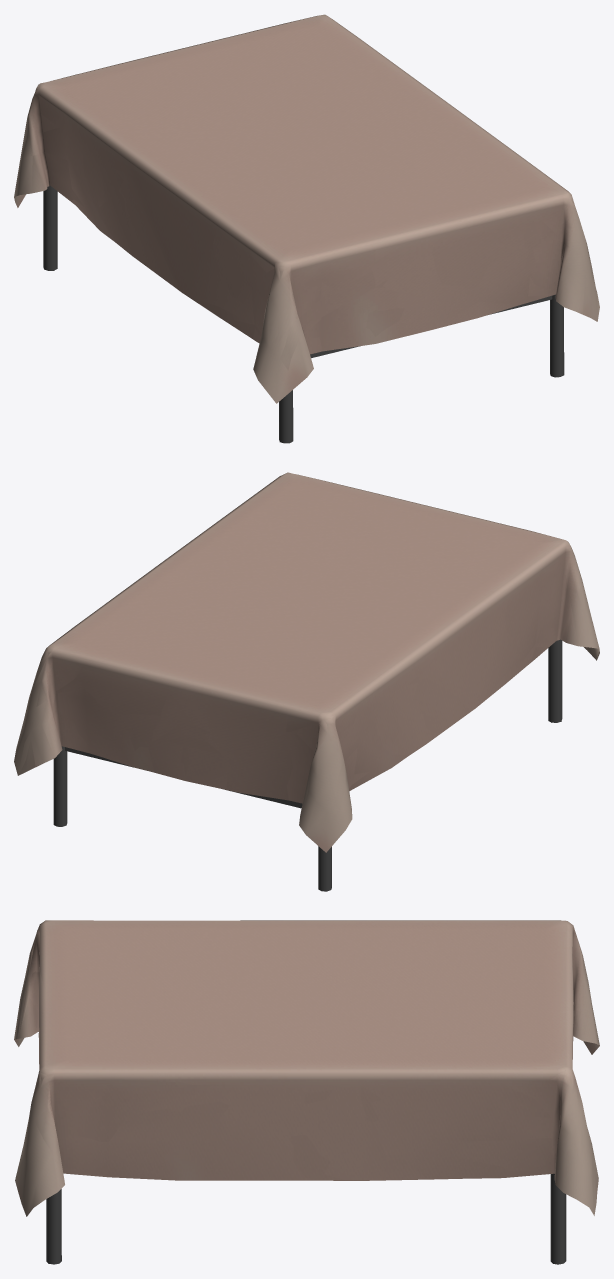
Rendered from pi_tabel01_03_06.gltf.
3 views of the same model, one above another, from view 1: azimuth 30°, elevation 25°; view 2: azimuth 150°, elevation 25°; view 3: azimuth 270°, elevation 25° (orthographic). The views are drawn at different scales.
Visible parts, largest first — view 1: um_pi_tabel01_03_06_model_lod2Shape:pi_tabel01_cloth01_01_01, um_pi_tabel01_03_06_model_lod0Shape:pi_tabel01_cloth01_01_01, um_pi_tabel01_03_06_model_lod1Shape:pi_tabel01_cloth01_01_01, um_pi_tabel01_03_06_model_lod0Shape:pi_tabel01_01, um_pi_tabel01_03_06_model_lod2Shape:pi_tabel01_01, um_pi_tabel01_03_06_model_lod1Shape:pi_tabel01_01; view 2: um_pi_tabel01_03_06_model_lod0Shape:pi_tabel01_cloth01_01_01, um_pi_tabel01_03_06_model_lod2Shape:pi_tabel01_cloth01_01_01, um_pi_tabel01_03_06_model_lod1Shape:pi_tabel01_cloth01_01_01, um_pi_tabel01_03_06_model_lod0Shape:pi_tabel01_01, um_pi_tabel01_03_06_model_lod2Shape:pi_tabel01_01, um_pi_tabel01_03_06_model_lod1Shape:pi_tabel01_01; view 3: um_pi_tabel01_03_06_model_lod2Shape:pi_tabel01_cloth01_01_01, um_pi_tabel01_03_06_model_lod0Shape:pi_tabel01_cloth01_01_01, um_pi_tabel01_03_06_model_lod1Shape:pi_tabel01_cloth01_01_01, um_pi_tabel01_03_06_model_lod1Shape:pi_tabel01_01, um_pi_tabel01_03_06_model_lod2Shape:pi_tabel01_01, um_pi_tabel01_03_06_model_lod0Shape:pi_tabel01_01.
Part boxes in pixels (bbox=[...]): um_pi_tabel01_03_06_model_lod2Shape:pi_tabel01_cloth01_01_01: bbox=[14, 14, 599, 403]; um_pi_tabel01_03_06_model_lod0Shape:pi_tabel01_cloth01_01_01: bbox=[14, 16, 595, 403]; um_pi_tabel01_03_06_model_lod1Shape:pi_tabel01_cloth01_01_01: bbox=[23, 17, 588, 351]; um_pi_tabel01_03_06_model_lod0Shape:pi_tabel01_01: bbox=[43, 187, 560, 443]; um_pi_tabel01_03_06_model_lod2Shape:pi_tabel01_01: bbox=[43, 185, 564, 443]; um_pi_tabel01_03_06_model_lod1Shape:pi_tabel01_01: bbox=[43, 187, 563, 441]; um_pi_tabel01_03_06_model_lod0Shape:pi_tabel01_cloth01_01_01: bbox=[14, 472, 599, 852]; um_pi_tabel01_03_06_model_lod2Shape:pi_tabel01_cloth01_01_01: bbox=[14, 472, 599, 852]; um_pi_tabel01_03_06_model_lod1Shape:pi_tabel01_cloth01_01_01: bbox=[37, 478, 595, 829]; um_pi_tabel01_03_06_model_lod0Shape:pi_tabel01_01: bbox=[54, 639, 562, 891]; um_pi_tabel01_03_06_model_lod2Shape:pi_tabel01_01: bbox=[55, 640, 561, 891]; um_pi_tabel01_03_06_model_lod1Shape:pi_tabel01_01: bbox=[53, 652, 556, 890]; um_pi_tabel01_03_06_model_lod2Shape:pi_tabel01_cloth01_01_01: bbox=[14, 920, 599, 1216]; um_pi_tabel01_03_06_model_lod0Shape:pi_tabel01_cloth01_01_01: bbox=[14, 920, 599, 1213]; um_pi_tabel01_03_06_model_lod1Shape:pi_tabel01_cloth01_01_01: bbox=[28, 920, 599, 1198]; um_pi_tabel01_03_06_model_lod1Shape:pi_tabel01_01: bbox=[46, 1174, 565, 1264]; um_pi_tabel01_03_06_model_lod2Shape:pi_tabel01_01: bbox=[47, 1173, 566, 1264]; um_pi_tabel01_03_06_model_lod0Shape:pi_tabel01_01: bbox=[46, 1174, 565, 1264].
Size of the model in its own units: 1.5 by 0.7608 by 2.06.
2 materials, 2 textured.
